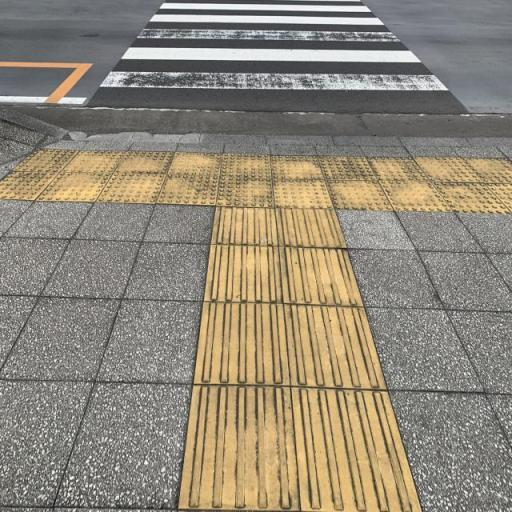line: (293, 385, 421, 511), (178, 383, 300, 508), (283, 303, 387, 391), (193, 302, 291, 387), (278, 246, 363, 306), (204, 244, 282, 304)
